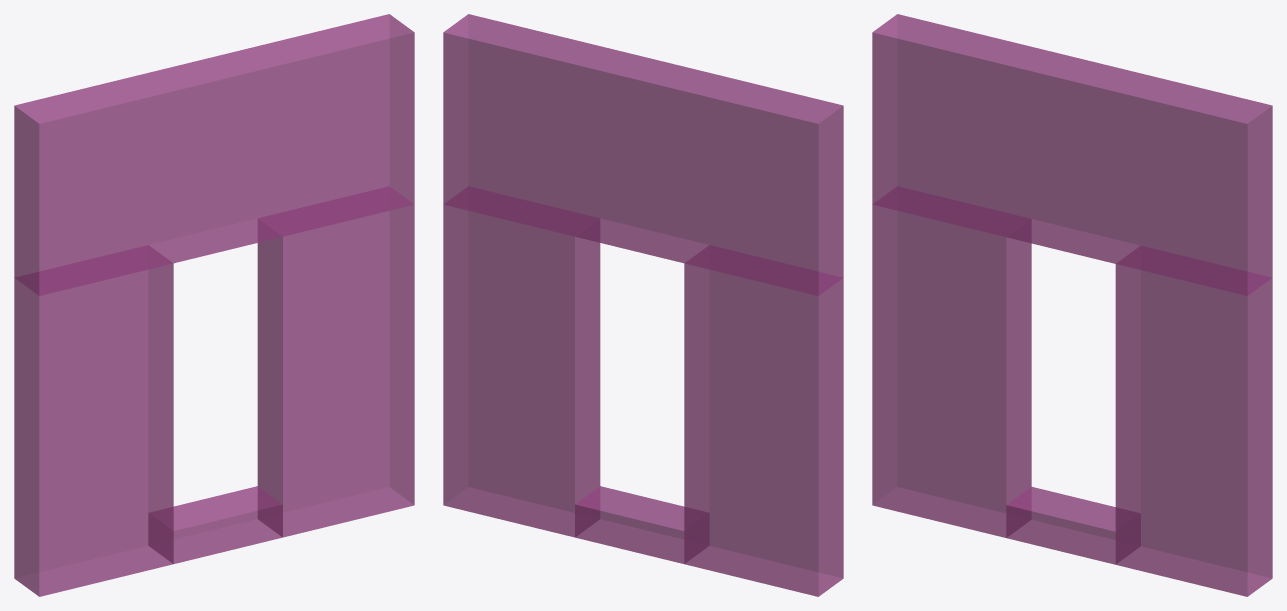
Rendered from SM_Bld_Wall_Hole_02_Collision.fbx.
3 views of the same model, side by side, from view 1: azimuth 30°, elevation 25°; view 2: azimuth 150°, elevation 25°; view 3: azimuth 330°, elevation 25° (orthographic).
Visible parts, largest first — view 1: SM_Bld_Wall_Hole_02_Collision; view 2: SM_Bld_Wall_Hole_02_Collision; view 3: SM_Bld_Wall_Hole_02_Collision.
Part boxes in pixels (left/top/right/bottom): SM_Bld_Wall_Hole_02_Collision: left=14, top=14, right=414, bottom=596; SM_Bld_Wall_Hole_02_Collision: left=443, top=14, right=843, bottom=596; SM_Bld_Wall_Hole_02_Collision: left=872, top=14, right=1272, bottom=596.
Bounding box in the file's own units: 253 × 305 × 29.46.
